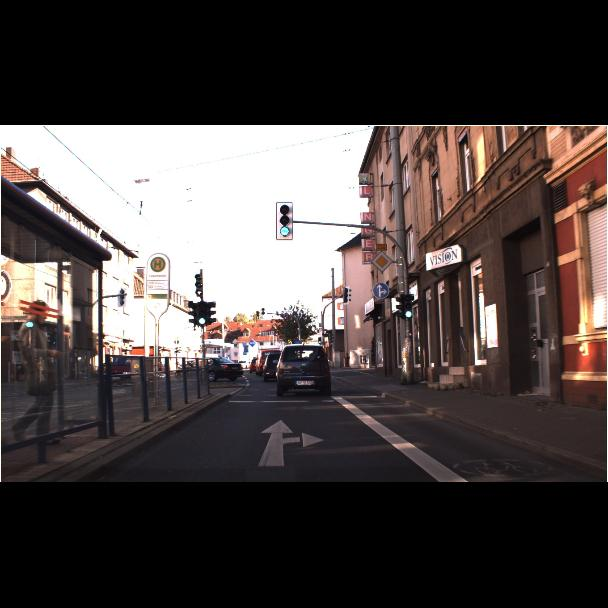go right or straight: (371, 251, 393, 299)
